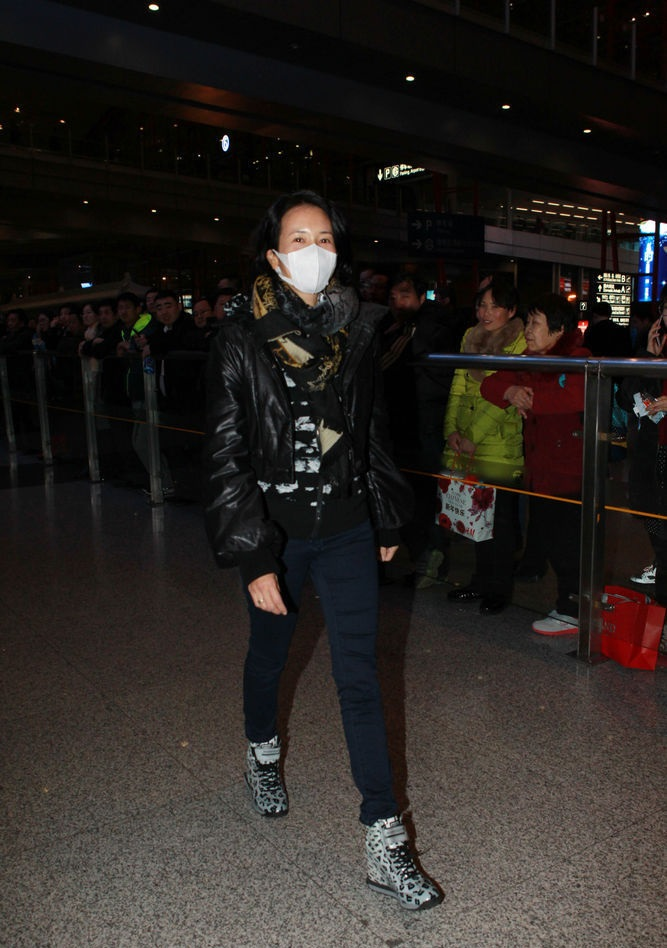face: (282, 204, 333, 290), (478, 291, 503, 331), (524, 311, 548, 350), (391, 280, 414, 317), (194, 302, 208, 326), (99, 305, 112, 328)
